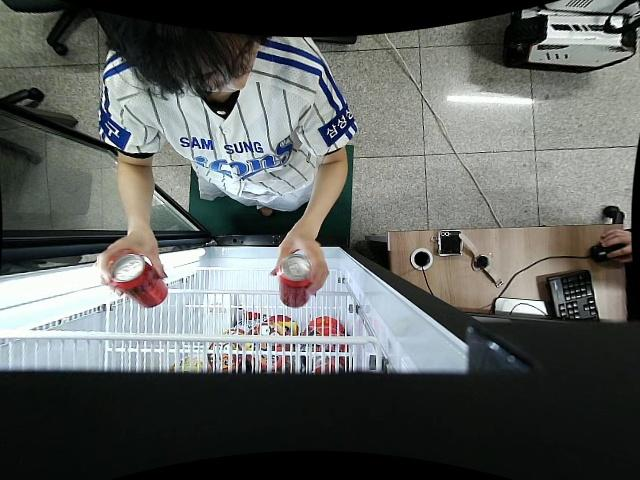00_hand: (95, 230, 168, 295), (268, 231, 329, 297)
11_cocaColaZero: (109, 256, 169, 307), (277, 255, 311, 307)
